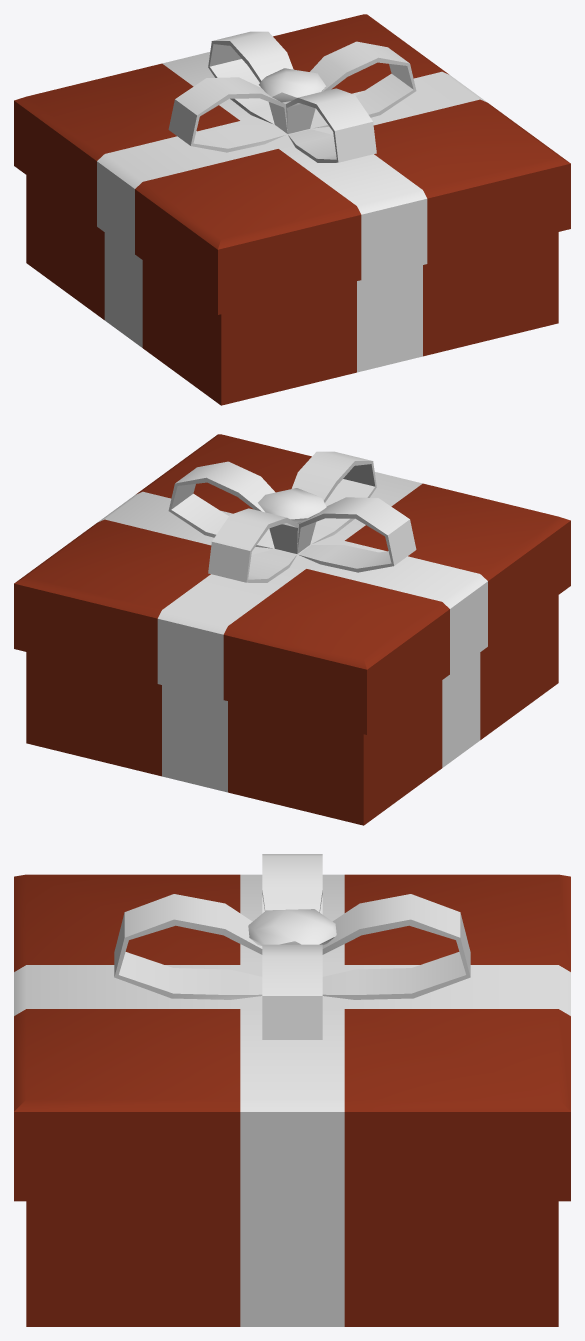
The model's file is GiftBox_05.glb.
The picture shows the model from 3 angles, top to bottom: view 1: azimuth 30°, elevation 25°; view 2: azimuth 150°, elevation 25°; view 3: azimuth 270°, elevation 25°; orthographic projection. The views are drawn at different scales.
Visible parts, largest first — view 1: GiftBox_05; view 2: GiftBox_05; view 3: GiftBox_05.
Part boxes in pixels (x1,y1,x2,y2): GiftBox_05: (14, 14, 570, 405); GiftBox_05: (14, 434, 570, 825); GiftBox_05: (14, 854, 570, 1326).
Bounding box in the file's own units: 0.4996 × 0.3046 × 0.4996.
1 material, 1 textured.
